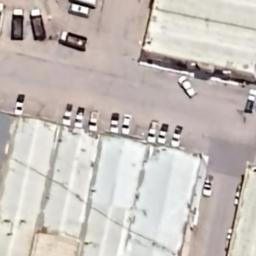SUV: (122, 114, 132, 135)
others: (68, 4, 90, 18)
pickup: (177, 76, 197, 98), (170, 125, 184, 147), (147, 120, 159, 142), (14, 94, 26, 114), (157, 124, 169, 144), (62, 104, 72, 126), (203, 174, 213, 196), (74, 107, 84, 128), (88, 110, 98, 130), (110, 112, 119, 133)
truck: (58, 30, 88, 51), (29, 9, 46, 41), (10, 9, 24, 40), (244, 88, 256, 112), (68, 0, 96, 8), (0, 2, 5, 36)
